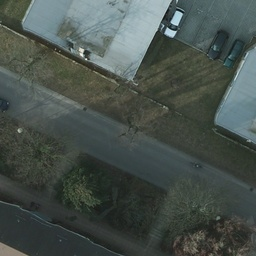car: (163, 8, 186, 38), (205, 30, 228, 60), (223, 37, 246, 67)
